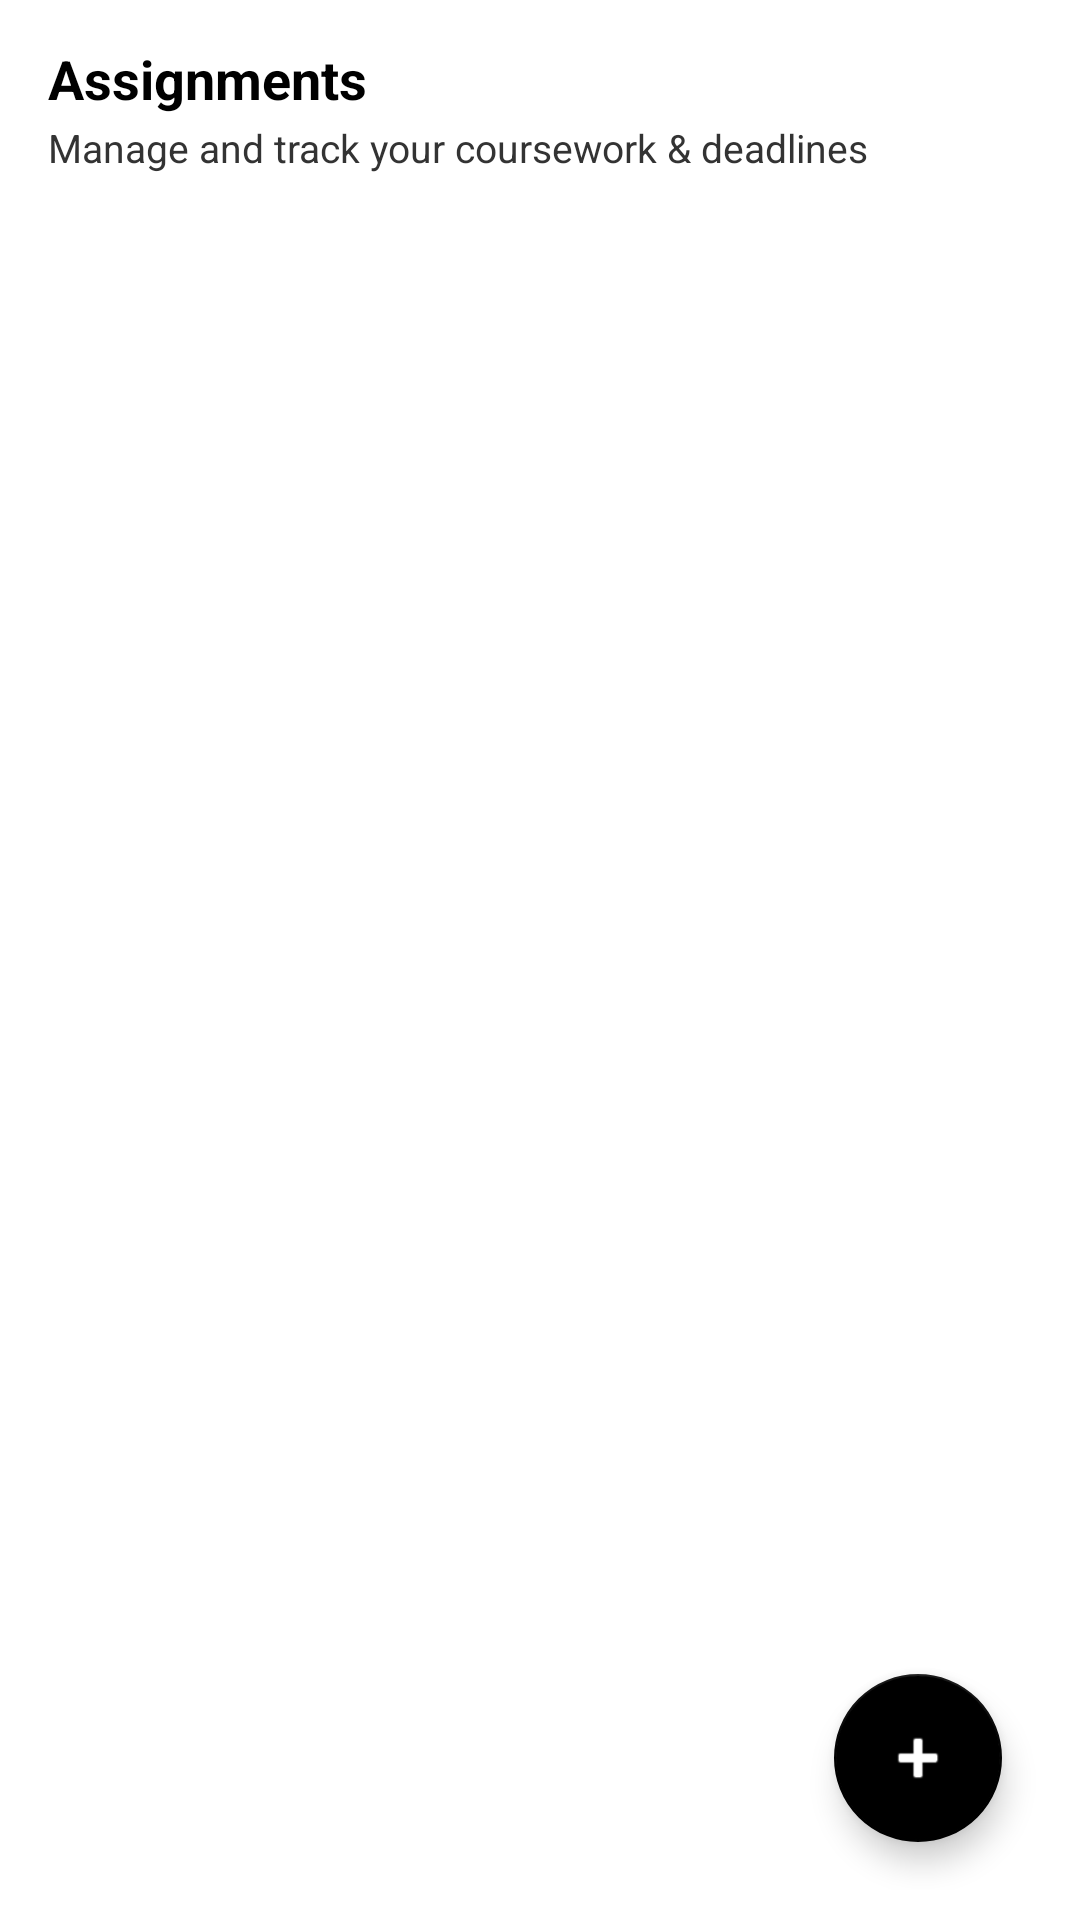

Icon click points for this 1080w x 1920h phone screenshot, format point (x, y):
Add Assignment: point (918, 1758)
